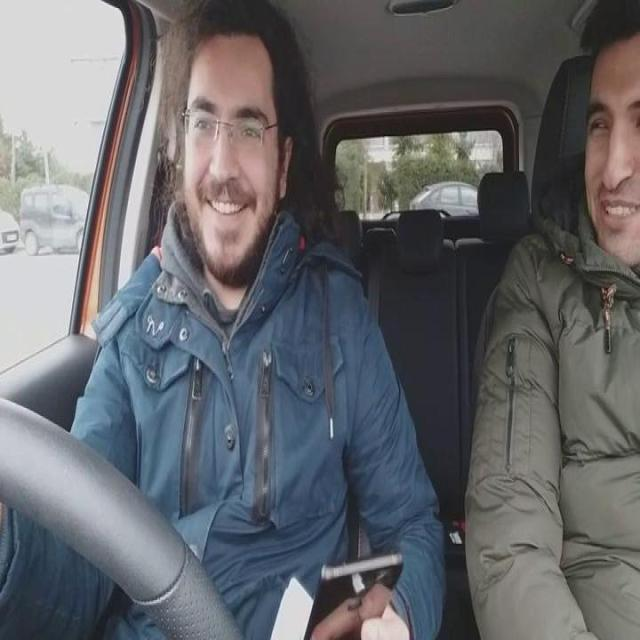phone: (305, 548, 408, 640)
